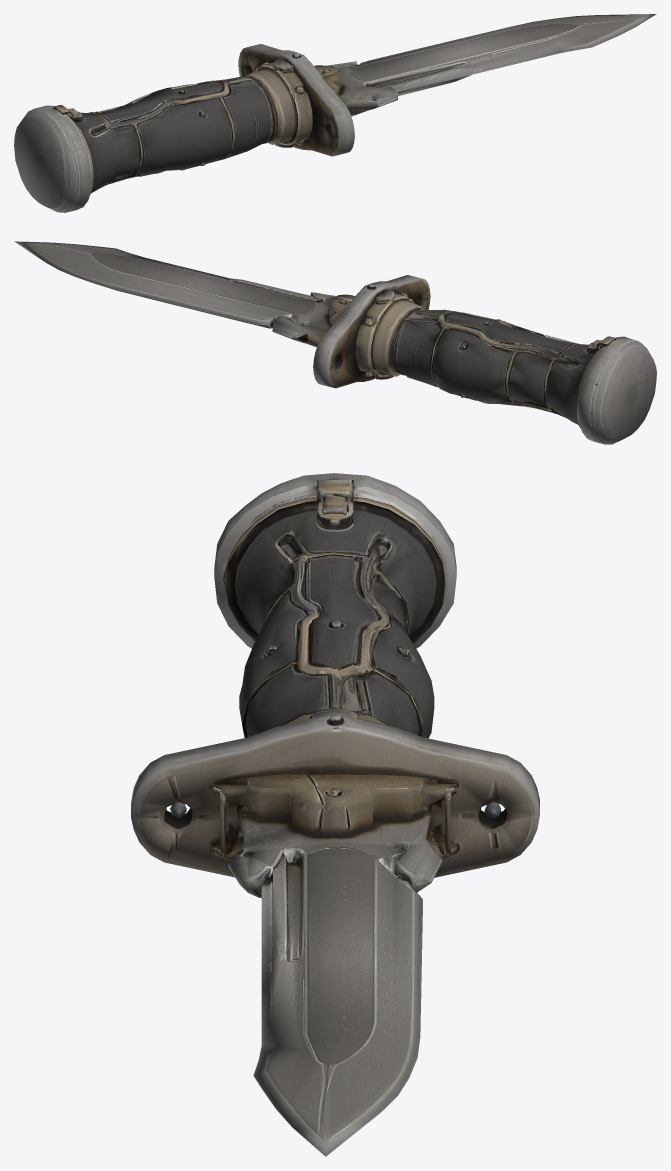
File: Dagger.fbx
3 views of the same model, one above another, from view 1: azimuth 30°, elevation 25°; view 2: azimuth 150°, elevation 25°; view 3: azimuth 270°, elevation 25° (orthographic). The views are drawn at different scales.
Parts seen in each view (by area): view 1: tripo_node_c4077cd7; view 2: tripo_node_c4077cd7; view 3: tripo_node_c4077cd7.
Boxes of the visible parts, x1=… form: tripo_node_c4077cd7: x1=14, y1=14, x2=656, y2=212; tripo_node_c4077cd7: x1=14, y1=241, x2=656, y2=444; tripo_node_c4077cd7: x1=131, y1=473, x2=539, y2=1156.
Size of the model in its own units: 0.998 by 0.1504 by 0.2871.
1 material, 1 textured.
